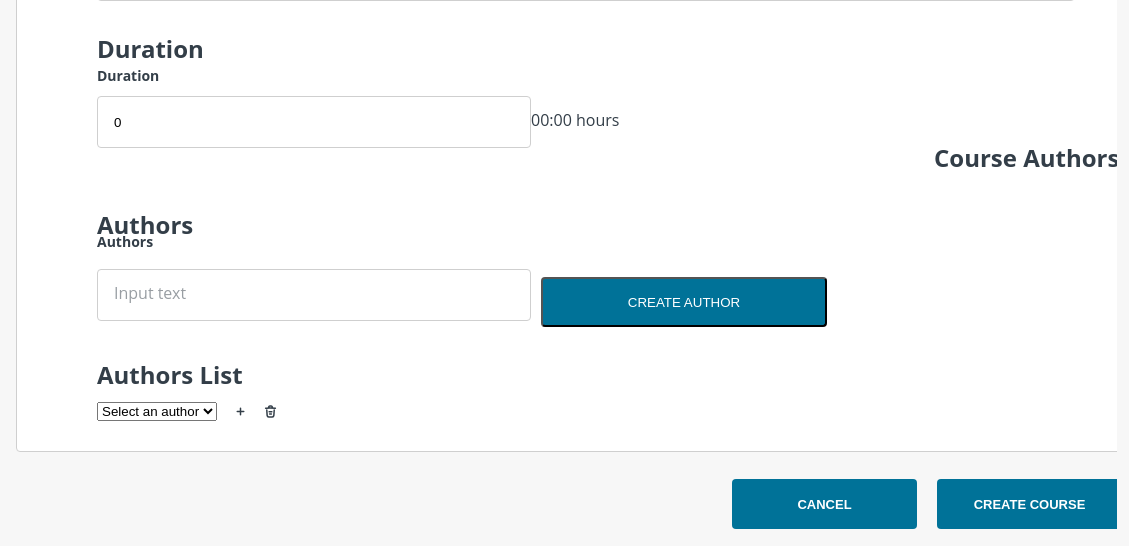
CourseForm Component › 'Add author' button click should add an author to the course authors list.
(page scrolled)
// Select an author from the dropdown list
Select "Author 1" in the dropdown with test id "authors-list" at (157, 412), box 97,402 -> 217,421
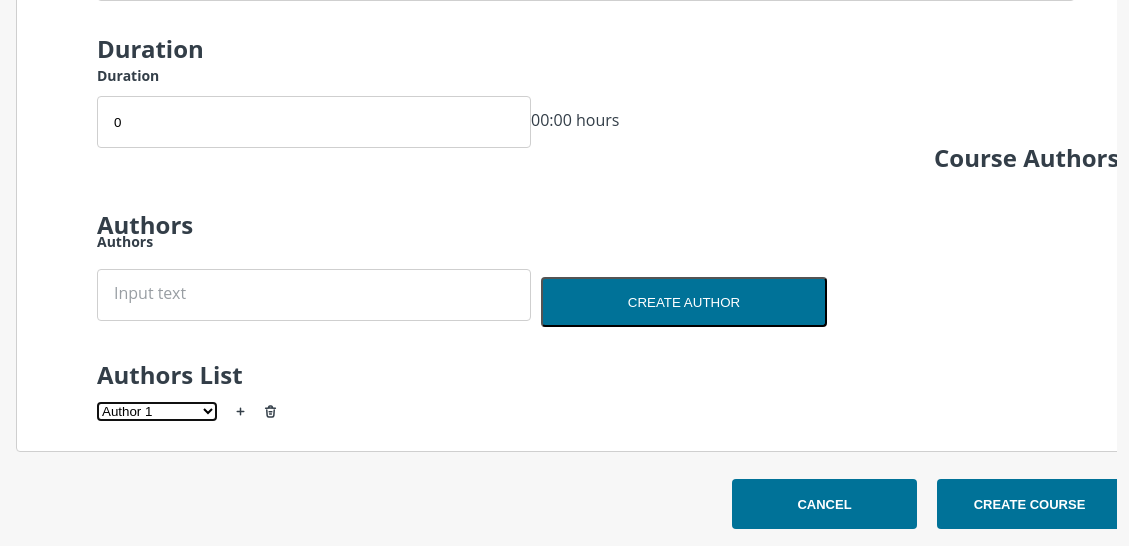
// Click the 'Add author' button
Click the button with test id "add-author-button" at (244, 411), box 224,386 -> 264,436
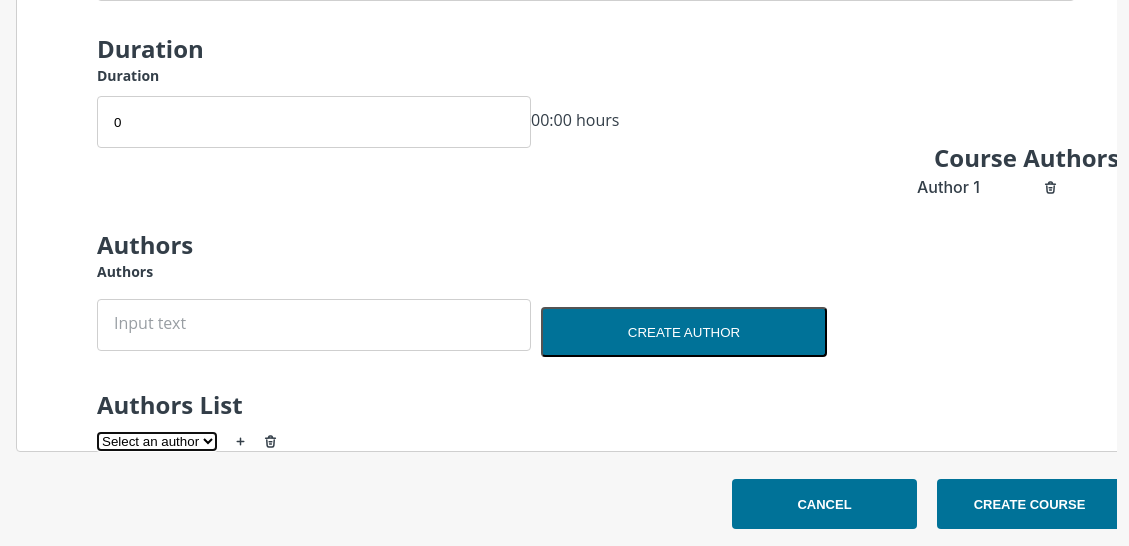
Check: the text "Author 1" is shown, box 917,177 -> 980,197
